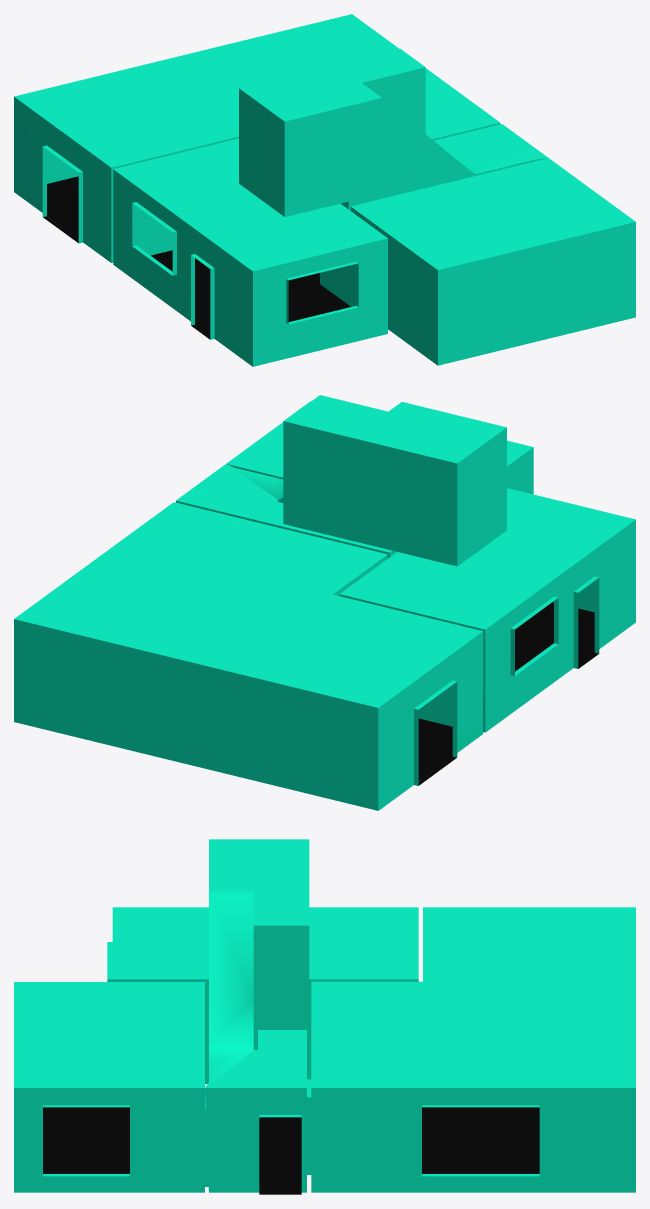
The model's file is House_Jeff_Nelly_Interior.FBX.
3 views of the same model, one above another, from view 1: azimuth 30°, elevation 25°; view 2: azimuth 150°, elevation 25°; view 3: azimuth 270°, elevation 25° (orthographic). The views are drawn at different scales.
Visible parts, largest first — view 1: House_JeffNelly_Interior_Kitchen, House_JeffNelly_Interior_Pauls, House_JeffNelly_Interior_LivingRoom, House_JeffNelly_Interior_Stairs; view 2: House_JeffNelly_Interior_LivingRoom, House_JeffNelly_Interior_Stairs, House_JeffNelly_Interior_Kitchen, House_JeffNelly_Interior_Pauls; view 3: House_JeffNelly_Interior_LivingRoom, House_JeffNelly_Interior_Pauls, House_JeffNelly_Interior_Stairs, House_JeffNelly_Interior_Kitchen.
Boxes of the visible parts, x1,y1,x2,y2 form: House_JeffNelly_Interior_Kitchen: (113, 138, 387, 366); House_JeffNelly_Interior_Pauls: (350, 158, 635, 365); House_JeffNelly_Interior_LivingRoom: (14, 14, 500, 262); House_JeffNelly_Interior_Stairs: (239, 48, 547, 283); House_JeffNelly_Interior_LivingRoom: (14, 502, 483, 810); House_JeffNelly_Interior_Stairs: (176, 401, 506, 566); House_JeffNelly_Interior_Kitchen: (339, 488, 635, 732); House_JeffNelly_Interior_Pauls: (226, 395, 533, 494); House_JeffNelly_Interior_LivingRoom: (311, 907, 635, 1192); House_JeffNelly_Interior_Pauls: (14, 982, 204, 1192); House_JeffNelly_Interior_Stairs: (205, 839, 311, 1194); House_JeffNelly_Interior_Kitchen: (107, 907, 418, 1083).
Size of the model in its own units: 1025 by 550 by 1455.
